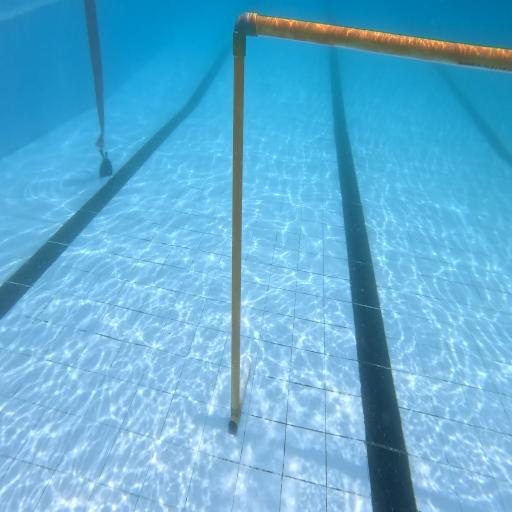gate: (229, 12, 512, 434)
